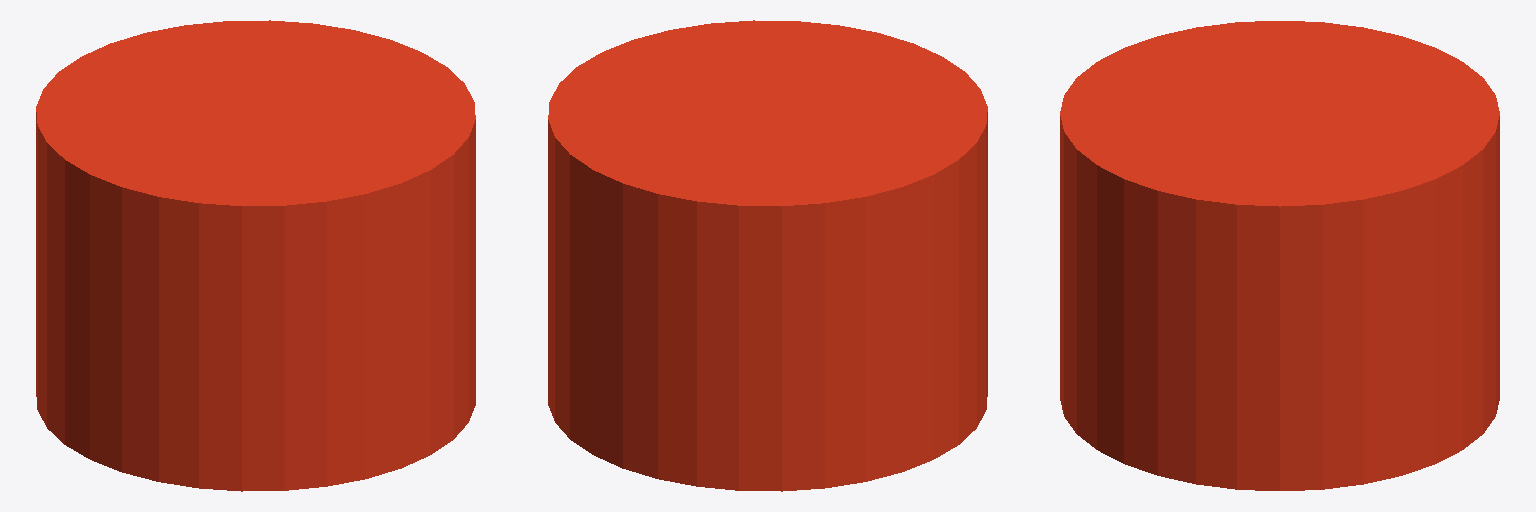
robot.urdf — cylinder:
<?xml version="1.0" ?>
<robot name="cylinder">
  <material name="color">
    <color rgba=".93 .294 .169 1"/>
  </material>

  <link name="base_link">
    <contact>
      <lateral_friction value="1.0"/>
      <rolling_friction value="1.0"/>
      <spinning_friction value="1.0"/>
      <inertia_scaling value="1.0"/>
    </contact>
    <inertial>
      <origin rpy="0 0 0" xyz="0 0 -0.01"/>
       <mass value="1.0"/>
       <inertia ixx="1" ixy="0" ixz="0" iyy="1" iyz="0" izz="1"/>
    </inertial>
    <visual>
      <origin rpy="0 0 0" xyz="0 0 0"/>
      <geometry>
        <cylinder length="0.05" radius="0.035"/>
      </geometry>
      <material name="color"/>
    </visual>
    <collision>
      <origin rpy="0 0 0" xyz="0 0 0"/>
      <geometry>
        <cylinder length="0.05" radius="0.035"/>
      </geometry>
    </collision>
  </link>
</robot>

--- Facts derived from the render (not from the file) ---
The picture shows the robot from 3 angles, left to right: view 1: azimuth 30°, elevation 25°; view 2: azimuth 150°, elevation 25°; view 3: azimuth 270°, elevation 25°; orthographic projection.
Model cylinder with 1 links and 0 joints (none), rooted at base_link, posed all joints at 0.
Visible links, largest first — view 1: base_link; view 2: base_link; view 3: base_link.
Boxes of the visible links, left/top/right/bottom form: base_link: left=36, top=20, right=475, bottom=491; base_link: left=548, top=20, right=987, bottom=491; base_link: left=1060, top=21, right=1499, bottom=490.
Size in the robot's own frame: 0.07 by 0.07 by 0.05 metres.
Geometry: primitives only (box / cylinder / sphere), no mesh files.